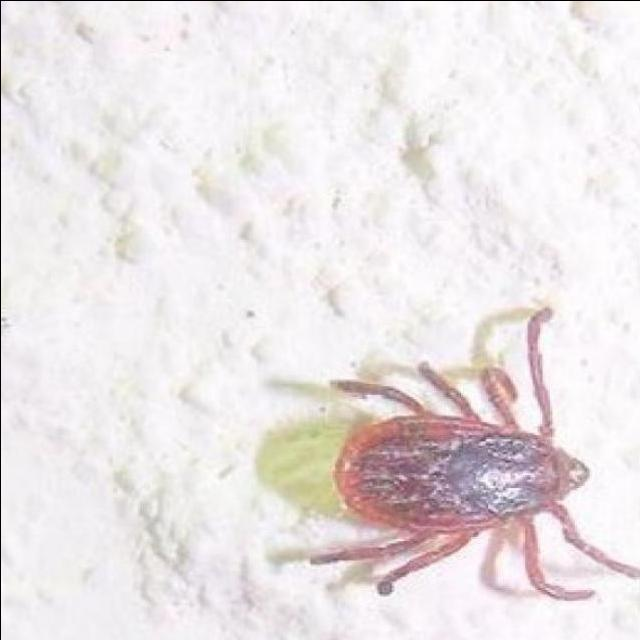Rhipicephalus Sanguineus-F: (310, 307, 640, 602)
